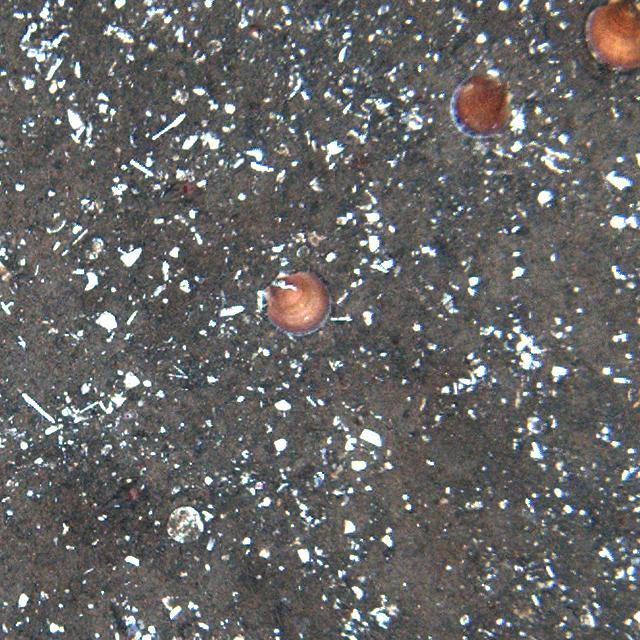scallop: (255, 269, 333, 337), (448, 69, 516, 140), (581, 0, 640, 67)
